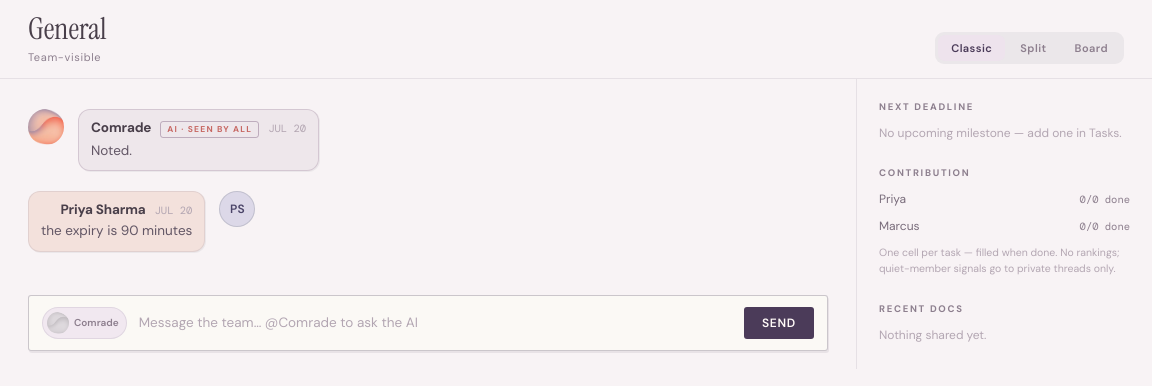
remember this › offers to remember a human message but never an AI one
The width and height of the screenshot is (1152, 386).
Hover over the text "the expiry is 90 minutes": (117, 231) [41,221,192,242]
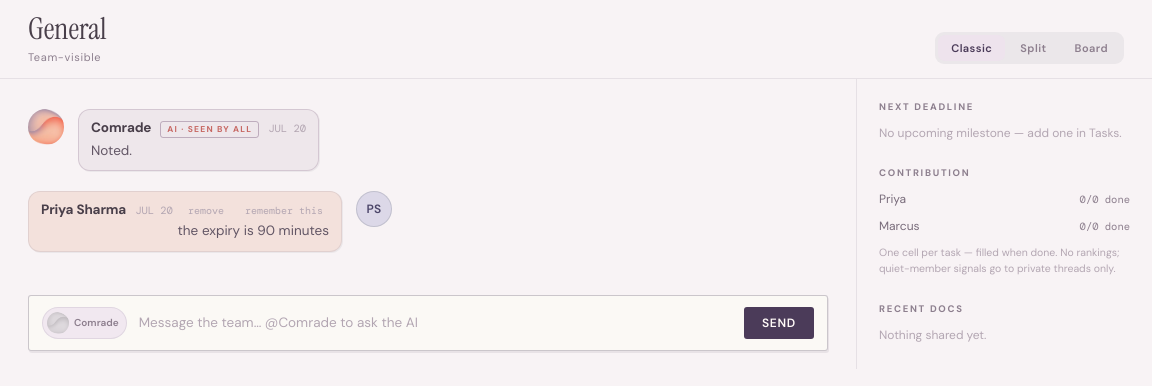
Expected: the button "remember this" is shown, [239,203,329,218]
Hover over the text "Noted.": (112, 150) [91,142,132,159]
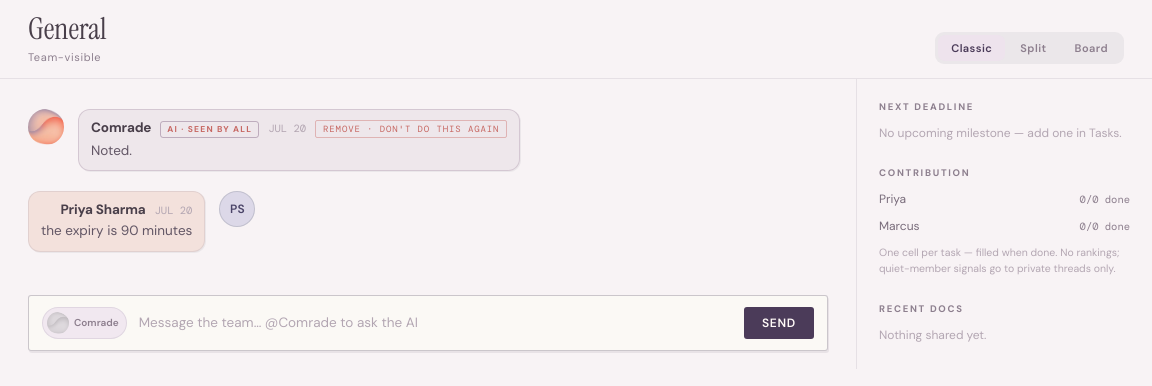
Expected: no buttons "remember this" are shown
